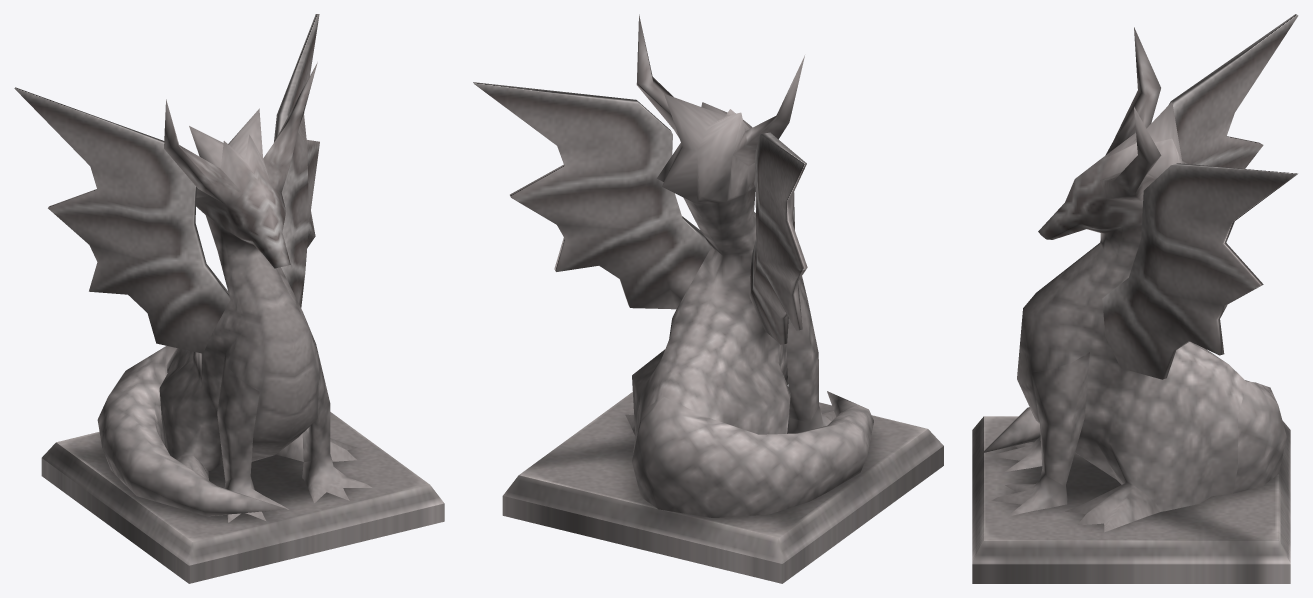
File: DragonStatue_L.fbx
3 renders of one model, left to right at view 1: azimuth 30°, elevation 25°; view 2: azimuth 150°, elevation 25°; view 3: azimuth 270°, elevation 25°, orthographic. The views are drawn at different scales.
Parts seen in each view (by area): view 1: polySurface7; view 2: polySurface7; view 3: polySurface7.
Boxes of the visible parts, x1,y1,x2,y2 form: polySurface7: [14, 14, 444, 583]; polySurface7: [473, 14, 943, 583]; polySurface7: [972, 14, 1298, 583].
Bounding box in the file's own units: 2.39 × 3.13 × 2.05.
